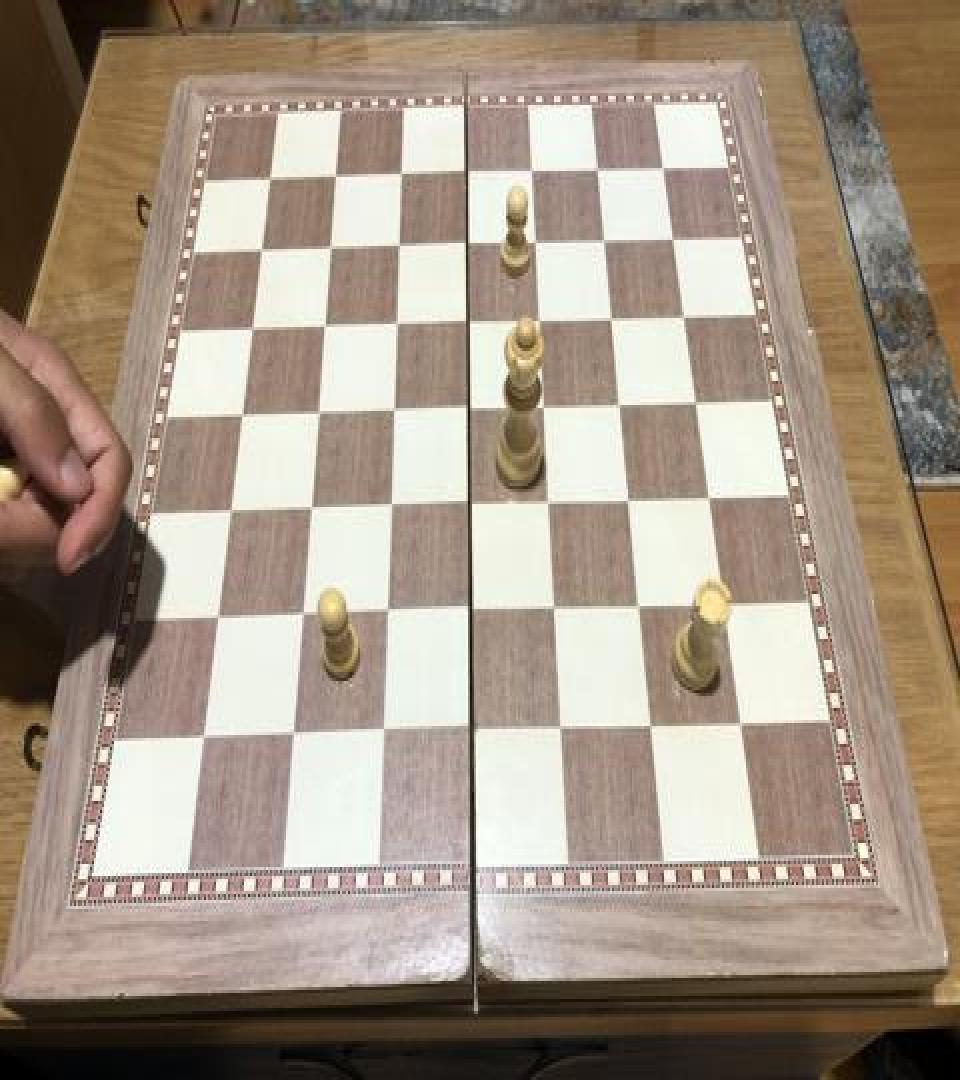xcorner: (713, 586, 737, 623), (208, 601, 232, 638), (283, 718, 307, 755), (654, 152, 678, 188), (589, 153, 613, 189), (523, 154, 547, 190), (458, 156, 482, 192), (392, 158, 416, 194), (326, 159, 350, 195), (260, 160, 284, 196), (664, 224, 688, 260), (595, 225, 619, 261), (527, 226, 551, 262), (458, 228, 482, 264), (390, 230, 414, 266), (321, 231, 345, 267), (252, 232, 276, 268), (674, 302, 698, 338), (603, 303, 627, 339), (531, 304, 555, 340), (459, 306, 483, 342), (387, 308, 411, 344), (315, 309, 339, 345), (242, 312, 266, 348), (686, 387, 710, 423), (610, 388, 634, 424), (535, 390, 559, 426), (459, 393, 483, 429), (384, 394, 408, 430), (308, 396, 332, 432), (232, 398, 256, 434), (698, 482, 722, 518), (619, 483, 643, 519), (540, 486, 564, 522), (460, 488, 484, 524), (380, 490, 404, 526), (300, 492, 324, 528), (220, 495, 244, 531), (629, 590, 653, 626), (545, 592, 569, 628), (461, 594, 485, 630), (377, 597, 401, 633), (292, 598, 316, 634), (728, 705, 752, 741), (640, 708, 664, 744), (551, 711, 575, 747), (462, 714, 486, 750), (372, 716, 396, 752), (193, 722, 217, 758)
